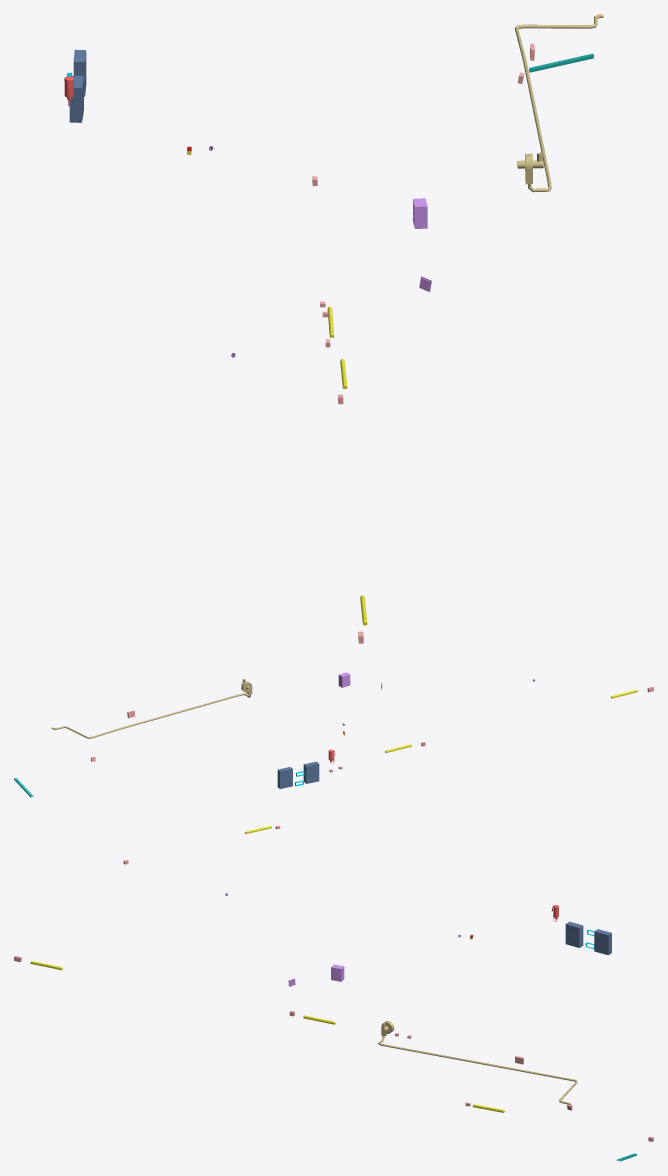
Rendered from tile_495.glb.
3 views of the same model, one above another, from view 1: azimuth 30°, elevation 25°; view 2: azimuth 150°, elevation 25°; view 3: azimuth 270°, elevation 25° (orthographic). The views are drawn at different scales.
Bounding box in the file's own units: 17.94 × 5.81 × 22.7.
